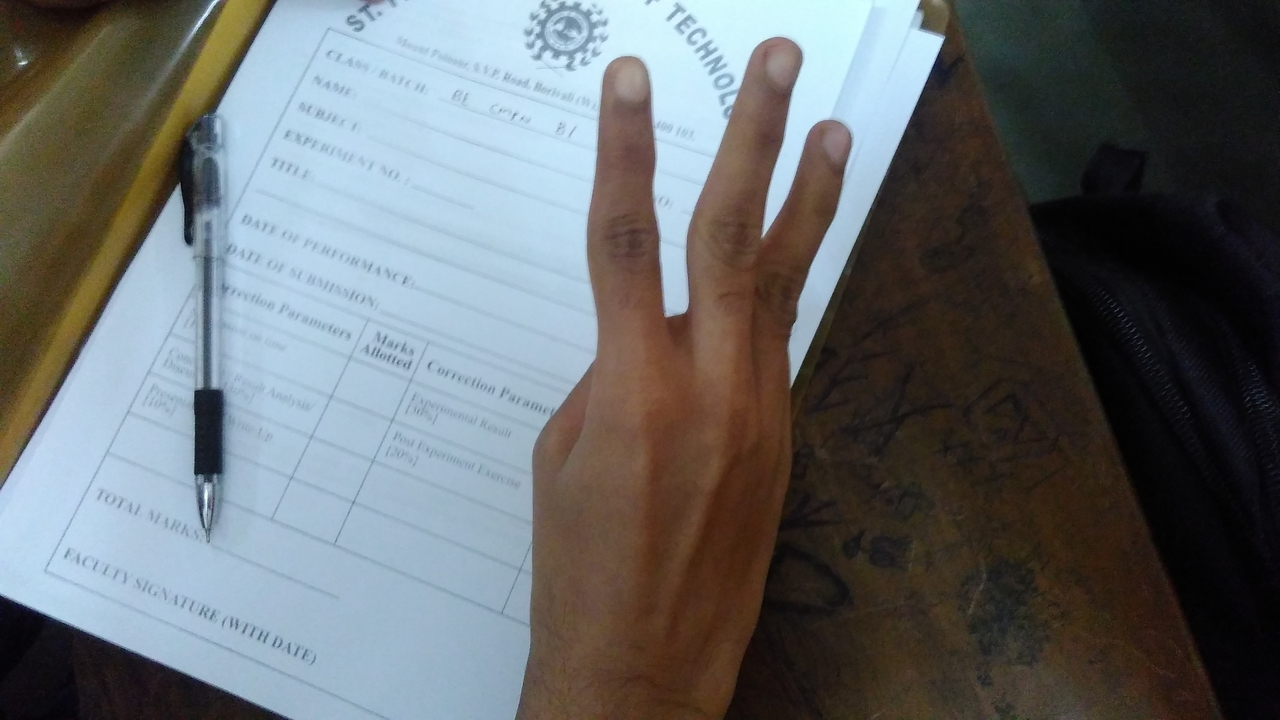fingertip: (800, 108, 866, 170), (598, 52, 656, 110), (746, 36, 806, 90)
